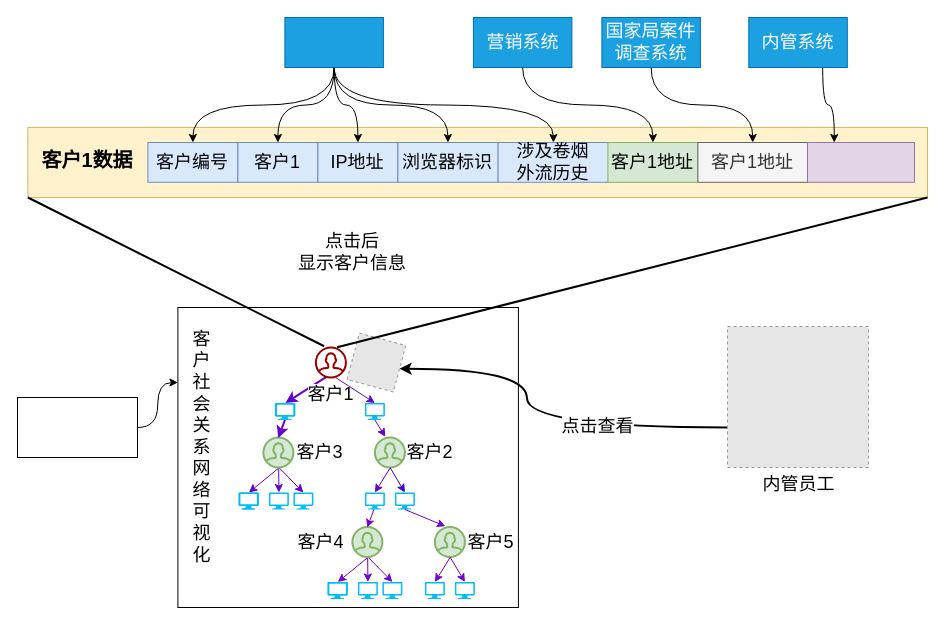
This 947x625 diagram has some shape labels left out. Grey dashed boxes stand in for pictures. The centre of each missing label's shape, as x and y in pixels:
"专卖系统" goes at point (333, 42).
"白名单" goes at point (860, 162).
"零售客户社会关系网络分析" goes at point (77, 427).
